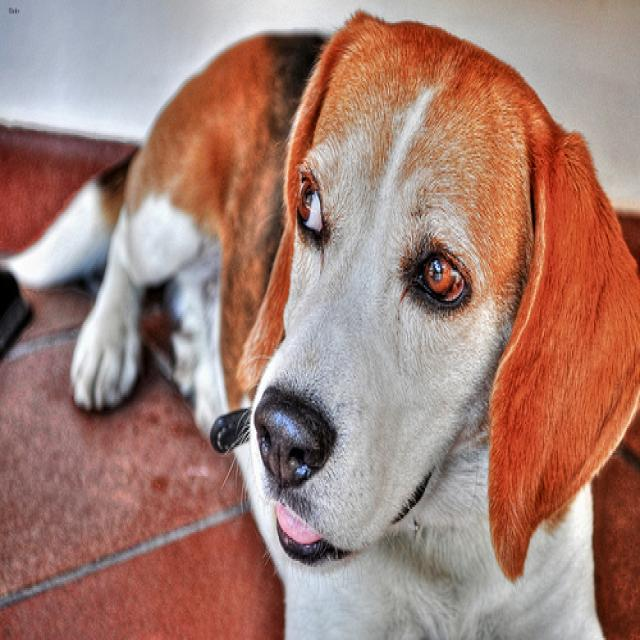dog-beagle: (1, 2, 637, 636)
